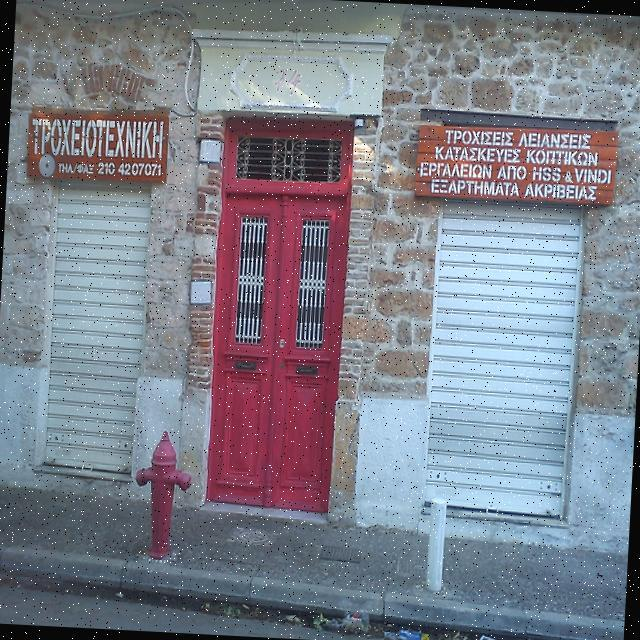fire_hydrant: (130, 431, 197, 562)
